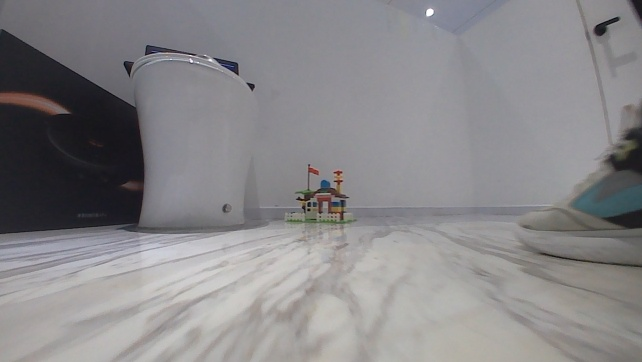plastic_toy: (280, 158, 355, 228)
shoe: (509, 100, 640, 268)
toilet: (125, 49, 260, 231)
